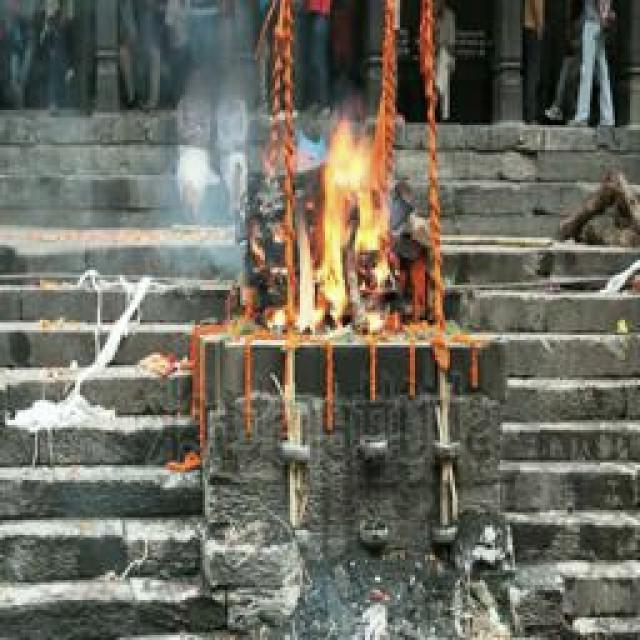Fire: (291, 115, 393, 334)
